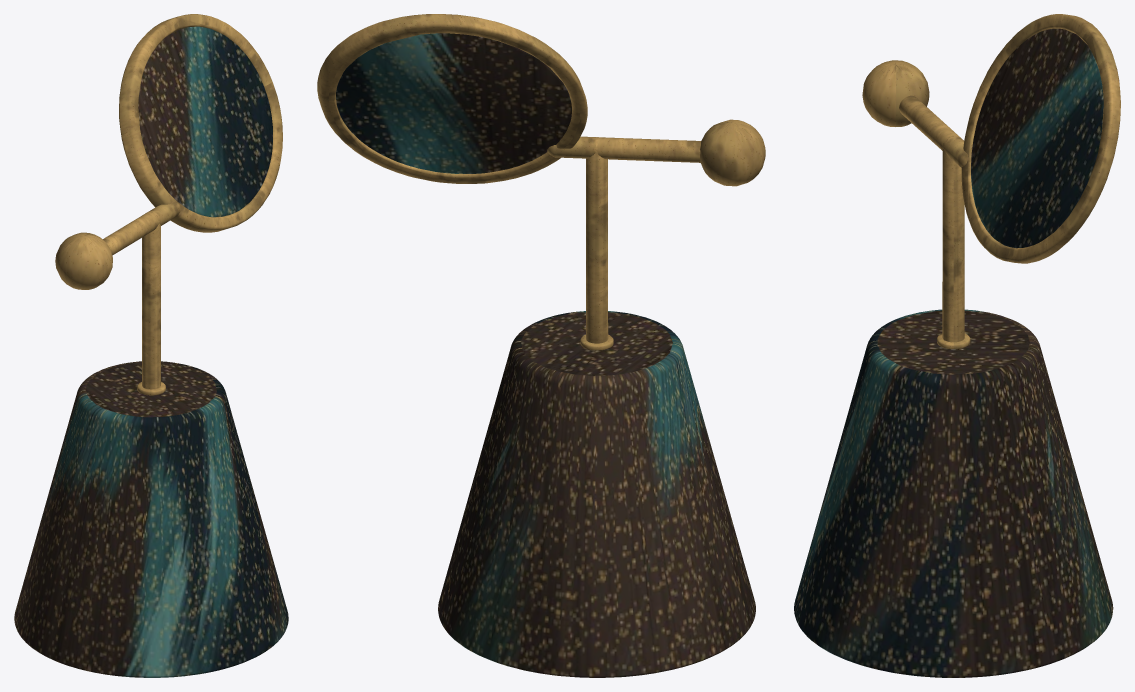
File: bishop-black.glb
3 views of the same model, side by side, from view 1: azimuth 30°, elevation 25°; view 2: azimuth 150°, elevation 25°; view 3: azimuth 270°, elevation 25° (orthographic). The views are drawn at different scales.
Visible parts, largest first — view 1: Telo, Vlozka_cocky, Ram_cocky, Sloupek, Kulicka, Rameno; view 2: Telo, Vlozka_cocky, Ram_cocky, Sloupek, Kulicka, Rameno; view 3: Telo, Vlozka_cocky, Ram_cocky, Sloupek, Kulicka, Rameno.
Boxes of the visible parts, left/top/right/bottom form: Telo: left=14, top=361, right=288, bottom=677; Vlozka_cocky: left=138, top=26, right=272, bottom=217; Ram_cocky: left=119, top=14, right=282, bottom=232; Sloupek: left=142, top=212, right=160, bottom=389; Kulicka: left=55, top=232, right=112, bottom=289; Rameno: left=103, top=201, right=180, bottom=255; Telo: left=438, top=311, right=755, bottom=677; Vlozka_cocky: left=336, top=33, right=571, bottom=173; Ram_cocky: left=317, top=14, right=587, bottom=183; Sloupek: left=586, top=137, right=608, bottom=343; Kulicka: left=700, top=119, right=765, bottom=186; Rameno: left=547, top=136, right=700, bottom=162; Telo: left=794, top=309, right=1113, bottom=677; Vlozka_cocky: left=971, top=28, right=1103, bottom=248; Ram_cocky: left=961, top=14, right=1120, bottom=263; Sloupek: left=942, top=135, right=964, bottom=342; Kulicka: left=862, top=60, right=929, bottom=126; Rameno: left=899, top=95, right=971, bottom=167.
Bounding box in the file's own units: 0.8067 × 1.38 × 0.6513.
Materials: 2 (2 with a texture image).
